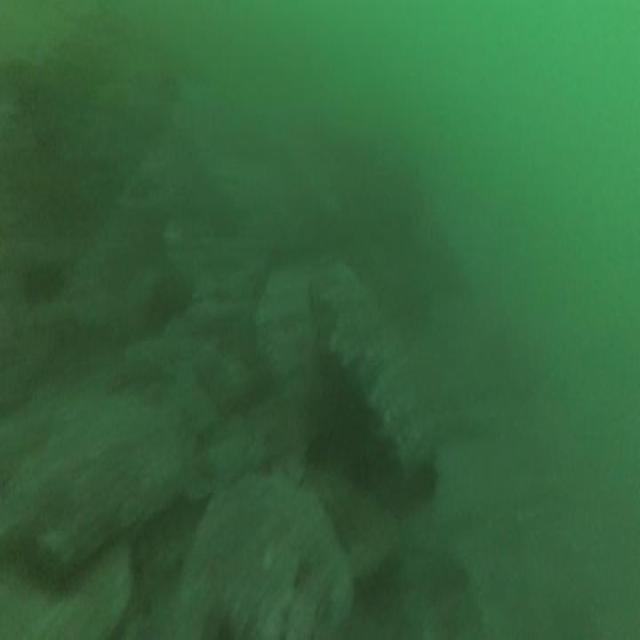echinus: (149, 276, 186, 326), (24, 262, 63, 304)
